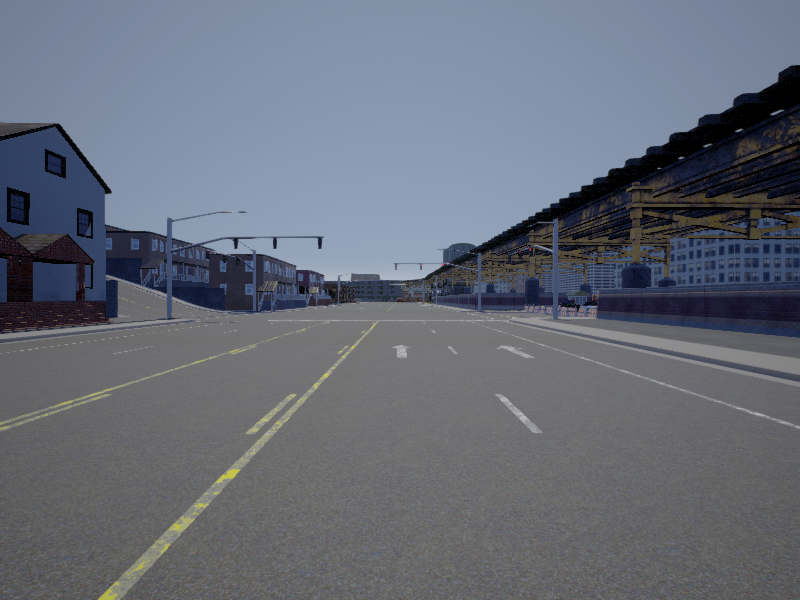Attacker: (393, 296, 405, 304)
